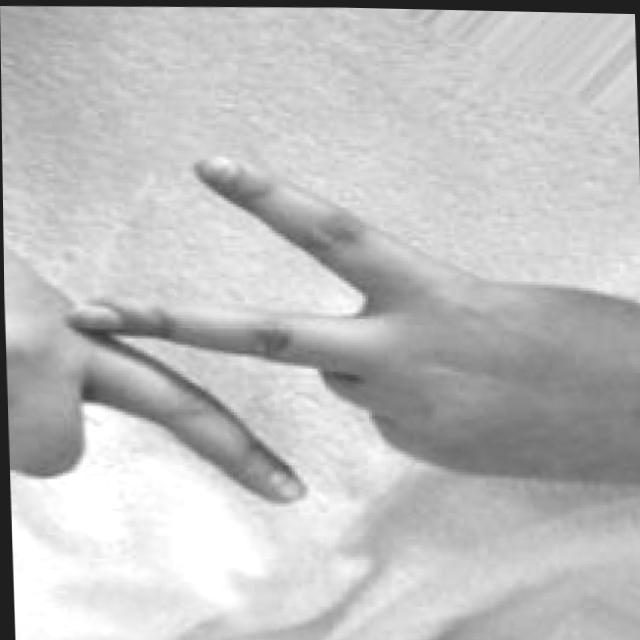Z: (2, 144, 640, 519)
